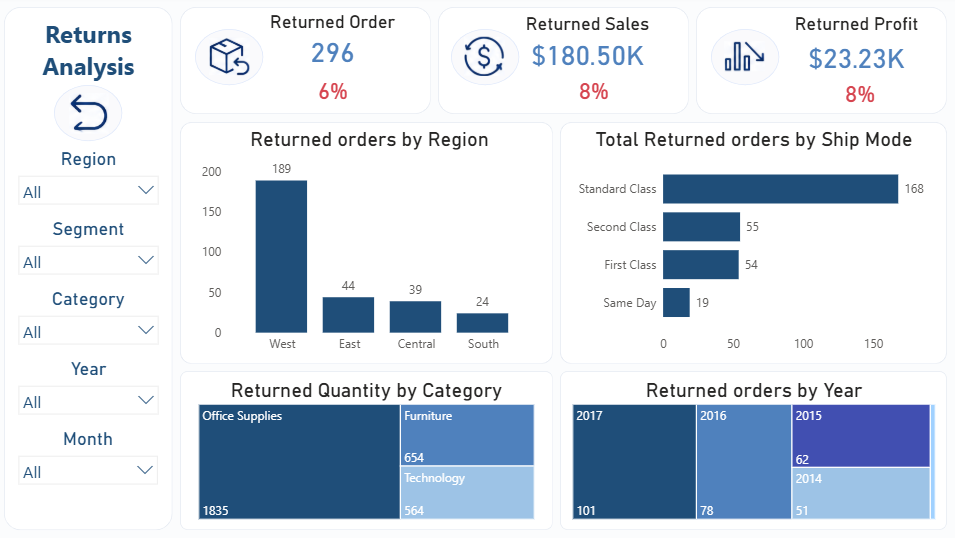

The dashboard page shown, as its layout file describes it:
{"tool":"powerbi","page":{"name":"Returns Analysis","canvas":[1280,720],"ordinal":2},"visuals":[{"type":"shape","box":[244.4,14.6,333.4,142.1],"z":0},{"type":"shape","box":[587.2,14.6,333.4,142.1],"z":1000},{"type":"shape","box":[929.9,14.6,333.4,142.1],"z":2000},{"type":"shape","box":[244.4,167.4,495.5,321.5],"z":3000},{"type":"clusteredColumnChart","title":"Returned orders by Region","fields":{"Y":["Returned Measures.Total Returned orders"],"Category":["People.Region"]},"box":[268.3,174,455.6,308.2],"z":4000},{"type":"card","title":"Returned Order","fields":{"Values":["Returned Measures.Total Returned orders"]},"box":[338,20.1,219.5,77.6],"z":5000,"group":"g3"},{"type":"shape","box":[749.2,167.4,514.1,321.5],"z":5000},{"type":"card","fields":{"Values":["Returned Measures.% Returned Orders"]},"box":[401,101.9,95.1,42.4],"z":6000,"group":"g3"},{"type":"shape","box":[244.4,498.2,495.5,211.2],"z":6000},{"type":"clusteredBarChart","fields":{"Y":["Returned Measures.Total Returned orders"],"Category":["Orders.Ship Mode"]},"box":[761.2,174,491.5,308.2],"z":7000},{"type":"treemap","title":"Returned Quantity by Category","fields":{"Group":["Orders.Category"],"Values":["Returned Measures.Total Returned Quantity"]},"box":[264.4,507.5,455.6,192.6],"z":8000},{"type":"card","fields":{"Values":["Returned Measures.% Returned Sales"]},"box":[746.5,102.2,95.1,43.7],"z":9000,"group":"g2"},{"type":"shape","box":[749.2,498.2,514.1,211.2],"z":9000},{"type":"treemap","title":"Returned orders by Year","fields":{"Values":["Returned Measures.Total Returned orders"],"Group":["Calendar.Date.Variation.Date Hierarchy.Year","Calendar.Date.Variation.Date Hierarchy.Quarter","Calendar.Date.Variation.Date Hierarchy.Month","Calendar.Date.Variation.Date Hierarchy.Day"]},"box":[761.2,507.5,491.5,192.6],"z":10000},{"type":"card","title":"Returned Sales","fields":{"Values":["Returned Measures.Sales Returned"]},"box":[676.2,22,219.5,79],"z":11000,"group":"g2"},{"type":"group","id":"g1","title":"Group 1","box":[1033.5,22.6,219.2,124.9],"z":11000},{"type":"group","id":"g2","title":"Group 3","box":[676.2,22,219.5,123.9],"z":12000},{"type":"card","fields":{"Values":["Returned Measures.% Profit Returned"]},"box":[1099.9,108.9,95.6,38.5],"z":12000,"group":"g1"},{"type":"group","id":"g3","title":"Group 5","box":[338,20.1,219.5,124.3],"z":13000},{"type":"shape","box":[10.2,14.6,223.9,695.1],"z":14000},{"type":"textbox","box":[32.2,22,181.5,105.4],"z":15000},{"type":"slicer","title":"Region","fields":{"Values":["Orders.Region"]},"box":[19.9,201.9,205.9,90.3],"z":16000},{"type":"card","title":"Returned Profit","fields":{"Values":["Returned Measures.Profit Returned"]},"box":[1033.5,22.6,219.2,87.7],"z":17000,"group":"g1"},{"type":"slicer","title":"Segment","fields":{"Values":["Orders.Segment"]},"box":[19.9,294.9,205.9,90.3],"z":17000},{"type":"slicer","title":"Category","fields":{"Values":["Orders.Category"]},"box":[19.9,387.9,205.9,90.3],"z":18000},{"type":"slicer","title":"Year","fields":{"Values":["Calendar.Year"]},"box":[19.9,480.9,205.9,90.3],"z":19000},{"type":"slicer","title":"Month","fields":{"Values":["Calendar.Month"]},"box":[19.9,573.9,204.6,90.3],"z":20000},{"type":"shape","box":[264.9,43.9,90.7,74.6],"z":21000},{"type":"image","box":[282.4,52.7,54.1,54.1],"z":22000},{"type":"shape","box":[949.8,43.9,90.7,74.6],"z":23000},{"type":"shape","box":[604.4,43.9,90.7,74.6],"z":24000},{"type":"shape","box":[77.6,118.5,90.7,74.6],"z":25000},{"type":"image","box":[622,52.7,54.1,54.1],"z":26000},{"type":"image","box":[967.3,52.7,54.1,54.1],"z":27000},{"type":"image","box":[96.6,128.8,52.7,54.1],"z":28000}]}

Visuals, with their boxes in screenshot pixels (x1, y1, x2, y2), scaled from the page's 1280x720 canvas onto the 955x538 screenshot:
shape: left=182, top=11, right=431, bottom=117
shape: left=438, top=11, right=687, bottom=117
shape: left=694, top=11, right=943, bottom=117
shape: left=182, top=125, right=552, bottom=365
"Returned orders by Region" clusteredColumnChart: left=200, top=130, right=540, bottom=360
"Returned Order" card: left=252, top=15, right=416, bottom=73
shape: left=559, top=125, right=943, bottom=365
card - Returned Measures.% Returned Orders: left=299, top=76, right=370, bottom=108
shape: left=182, top=372, right=552, bottom=530
clusteredBarChart - Returned Measures.Total Returned orders x Orders.Ship Mode: left=568, top=130, right=935, bottom=360
"Returned Quantity by Category" treemap: left=197, top=379, right=537, bottom=523
card - Returned Measures.% Returned Sales: left=557, top=76, right=628, bottom=109
shape: left=559, top=372, right=943, bottom=530
"Returned orders by Year" treemap: left=568, top=379, right=935, bottom=523
"Returned Sales" card: left=505, top=16, right=668, bottom=75
"Group 1" group: left=771, top=17, right=935, bottom=110
"Group 3" group: left=505, top=16, right=668, bottom=109
card - Returned Measures.% Profit Returned: left=821, top=81, right=892, bottom=110
"Group 5" group: left=252, top=15, right=416, bottom=108
shape: left=8, top=11, right=175, bottom=530
textbox: left=24, top=16, right=159, bottom=95
"Region" slicer: left=15, top=151, right=168, bottom=218
"Returned Profit" card: left=771, top=17, right=935, bottom=82
"Segment" slicer: left=15, top=220, right=168, bottom=288
"Category" slicer: left=15, top=290, right=168, bottom=357
"Year" slicer: left=15, top=359, right=168, bottom=427
"Month" slicer: left=15, top=429, right=167, bottom=496
shape: left=198, top=33, right=265, bottom=89
image: left=211, top=39, right=251, bottom=80
shape: left=709, top=33, right=776, bottom=89
shape: left=451, top=33, right=519, bottom=89
shape: left=58, top=89, right=126, bottom=144
image: left=464, top=39, right=504, bottom=80
image: left=722, top=39, right=762, bottom=80
image: left=72, top=96, right=111, bottom=137
